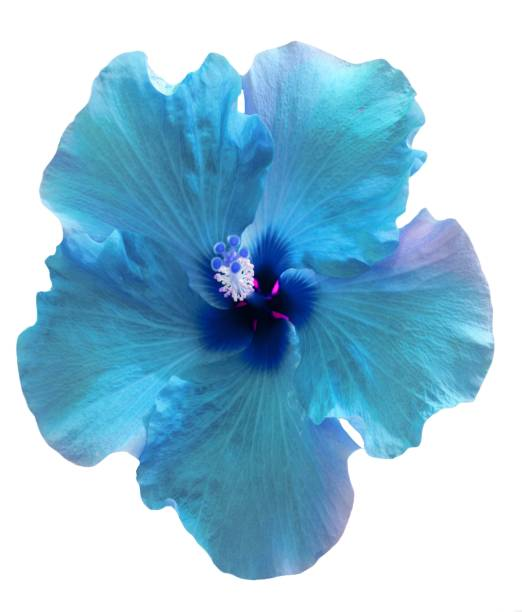Hibiscus: (9, 40, 509, 567)
